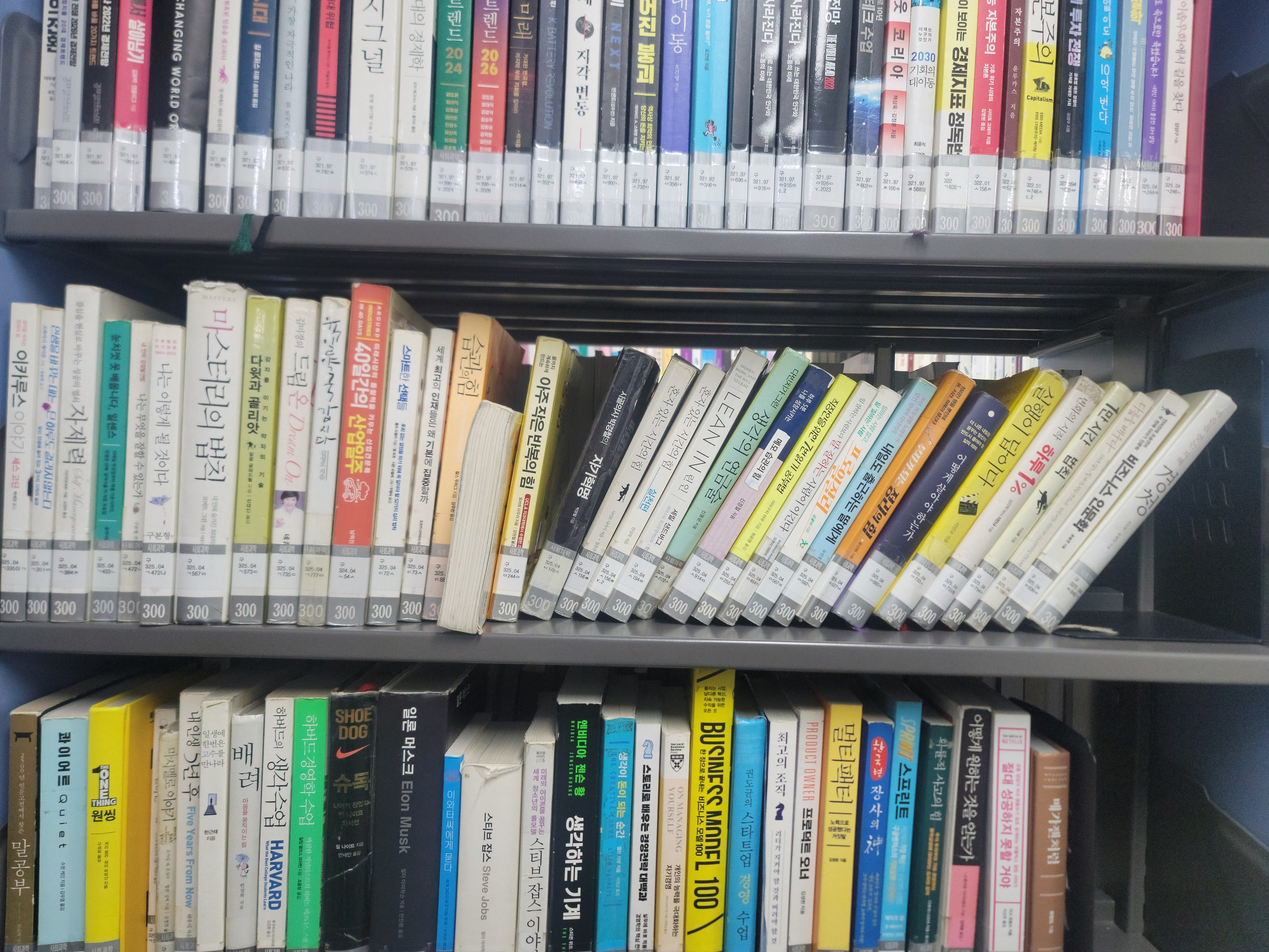book-spine: (869, 365, 1070, 631), (1028, 386, 1240, 636), (903, 372, 1105, 634), (624, 344, 811, 622), (938, 378, 1134, 631), (991, 388, 1189, 633), (596, 344, 769, 624), (652, 362, 834, 625), (963, 387, 1155, 632), (795, 372, 976, 628), (825, 391, 1011, 631), (764, 376, 938, 628), (687, 371, 857, 627), (712, 380, 879, 628), (569, 360, 726, 622), (546, 351, 697, 622), (512, 344, 659, 622), (737, 385, 902, 627), (172, 283, 246, 624), (325, 283, 392, 626), (421, 310, 494, 622), (486, 336, 564, 623), (264, 298, 318, 623), (49, 285, 101, 622), (365, 330, 424, 626), (296, 297, 349, 626), (227, 296, 280, 624), (397, 329, 455, 622), (139, 325, 183, 625), (87, 321, 130, 623), (24, 308, 64, 621), (0, 302, 37, 621), (115, 322, 153, 622)
